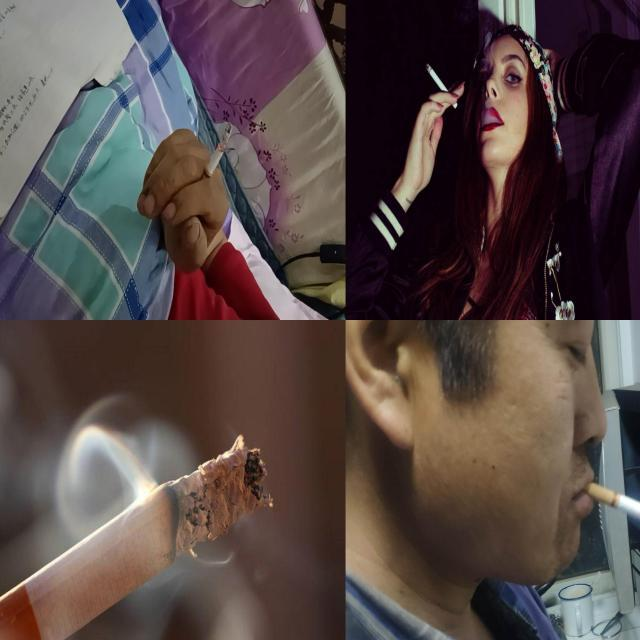smoke: (0, 433, 274, 639), (584, 478, 640, 541), (198, 123, 232, 195), (423, 60, 459, 109)
